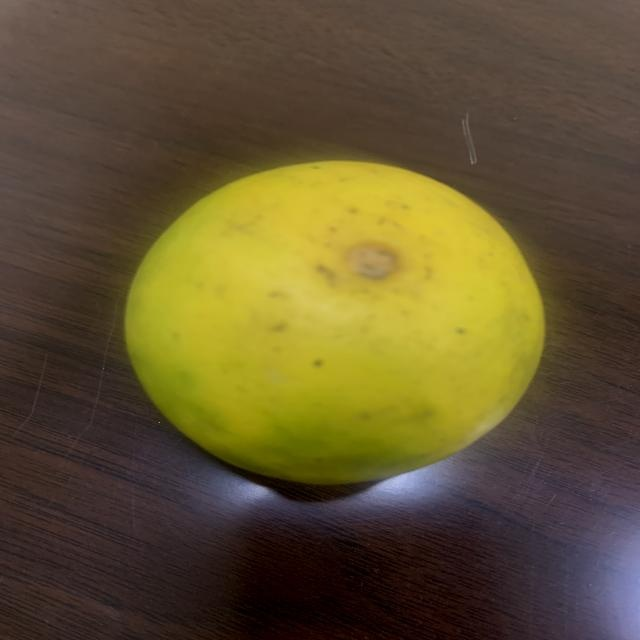agrume: (132, 153, 553, 487)
